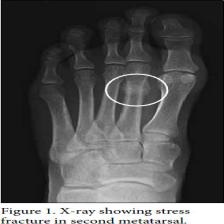stress-fracture: (85, 40, 166, 144)
